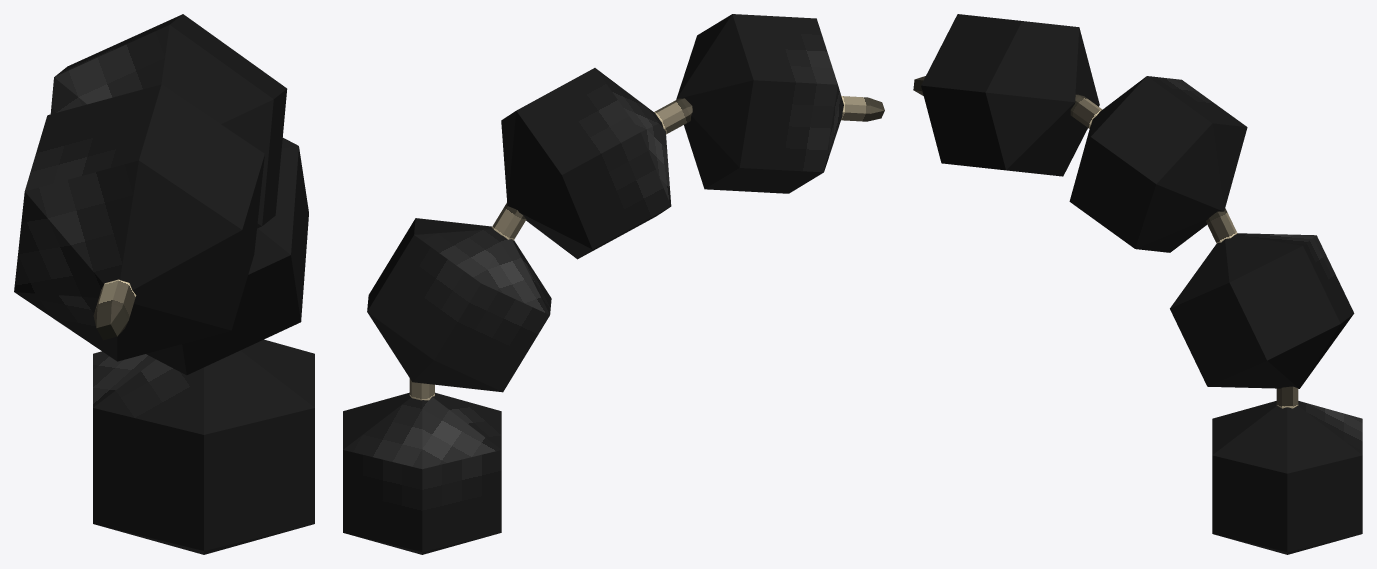
The model's file is chain.gltf.
3 renders of one model, left to right at view 1: azimuth 30°, elevation 25°; view 2: azimuth 150°, elevation 25°; view 3: azimuth 270°, elevation 25°, orthographic. The views are drawn at different scales.
Visible parts, largest first — view 1: sphere (×4), beveled_cuboid; view 2: sphere (×4), beveled_cuboid (×3); view 3: sphere (×4), beveled_cuboid (×2).
Part boxes in pixels (x1,y1,x2,y2): sphere (×4): [14, 14, 314, 554]; beveled_cuboid: [93, 279, 136, 340]; sphere (×4): [343, 14, 843, 554]; beveled_cuboid (×3): [491, 96, 884, 240]; sphere (×4): [921, 14, 1362, 554]; beveled_cuboid (×2): [1070, 94, 1237, 243].
Bounding box in the file's own units: 1.11 × 1.45 × 1.29.
Materials: 1 (1 with a texture image).
